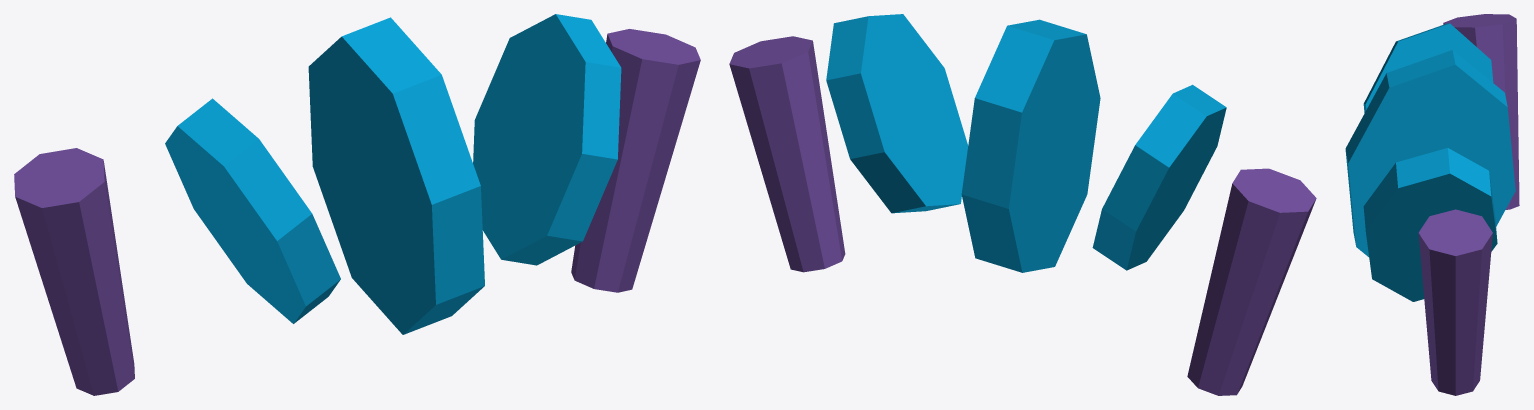
The model's file is SM_Prototype _07.fbx.
The picture shows the model from 3 angles, left to right: view 1: azimuth 30°, elevation 25°; view 2: azimuth 150°, elevation 25°; view 3: azimuth 270°, elevation 25°; orthographic projection. The views are drawn at different scales.
Visible parts, largest first — view 1: SM_Prototype _07; view 2: SM_Prototype _07; view 3: SM_Prototype _07.
Boxes of the visible parts, x1=… form: SM_Prototype _07: x1=14, y1=14, x2=700, y2=395; SM_Prototype _07: x1=729, y1=14, x2=1316, y2=395; SM_Prototype _07: x1=1345, y1=14, x2=1519, y2=395.
Size of the model in its own units: 4.69 by 2.19 by 1.42.
